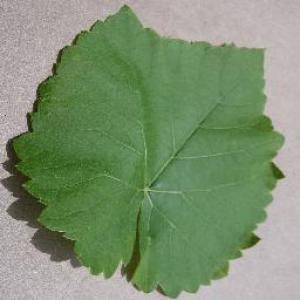Folha: (9, 2, 286, 299)
